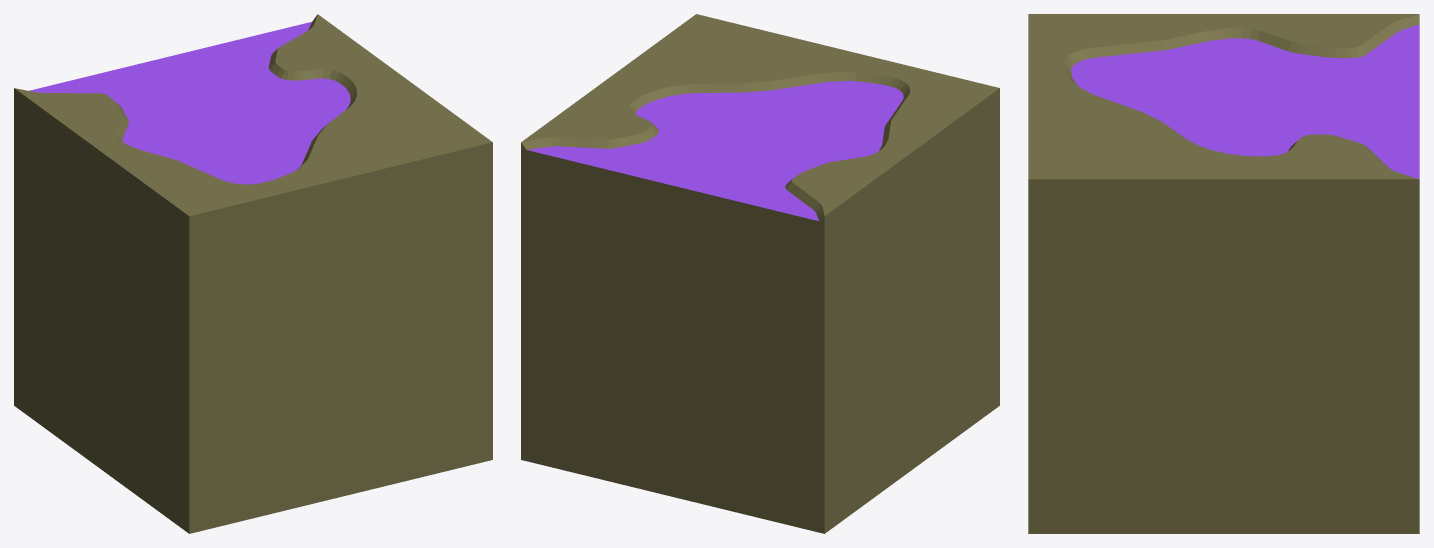
File: tile_toxic_2a_01.fbx
3 views of the same model, side by side, from view 1: azimuth 30°, elevation 25°; view 2: azimuth 150°, elevation 25°; view 3: azimuth 270°, elevation 25° (orthographic). The views are drawn at different scales.
Visible parts, largest first — view 1: tile_toxic_2a_01; view 2: tile_toxic_2a_01; view 3: tile_toxic_2a_01.
Part boxes in pixels (x1,y1,x2,y2): tile_toxic_2a_01: (14, 14, 492, 533); tile_toxic_2a_01: (521, 14, 999, 533); tile_toxic_2a_01: (1028, 14, 1419, 533).
Size of the model in its own units: 100 by 100 by 100.
